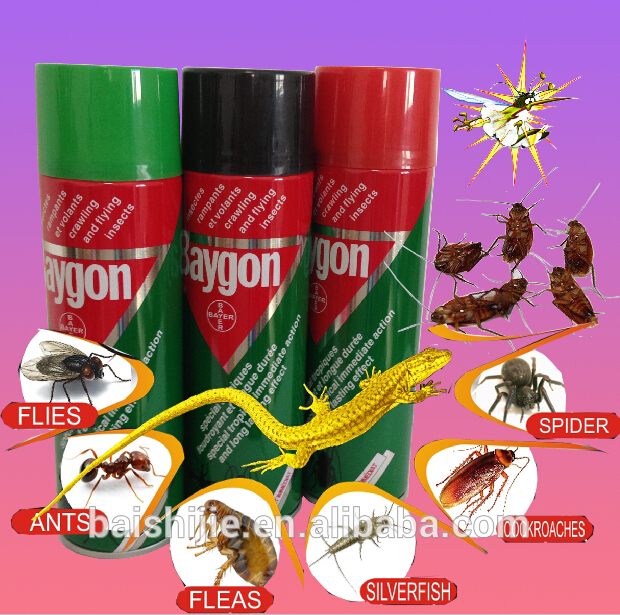Insecticide: (28, 56, 184, 565), (171, 60, 317, 529), (306, 57, 438, 521)
